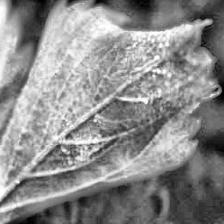Powdery Mildew Leaf: (0, 0, 222, 224)
